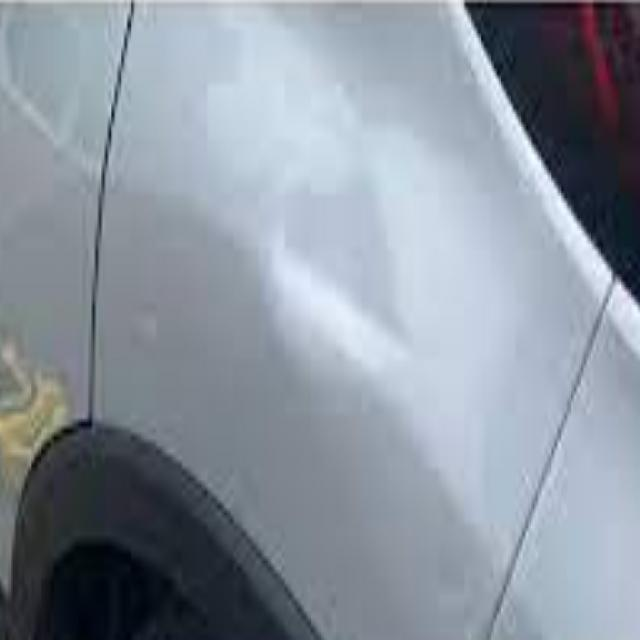dents: (263, 161, 410, 405)
